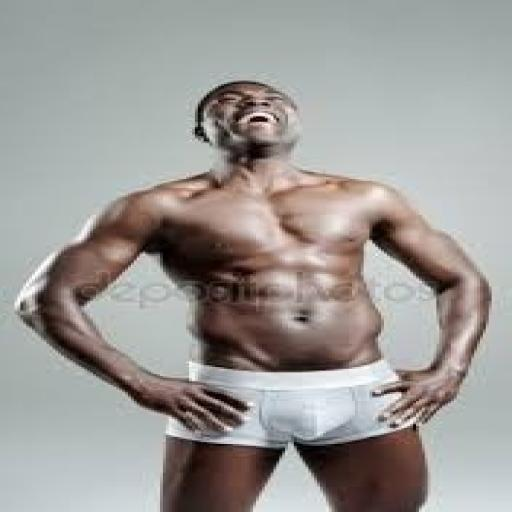laughing: (12, 74, 494, 510)
